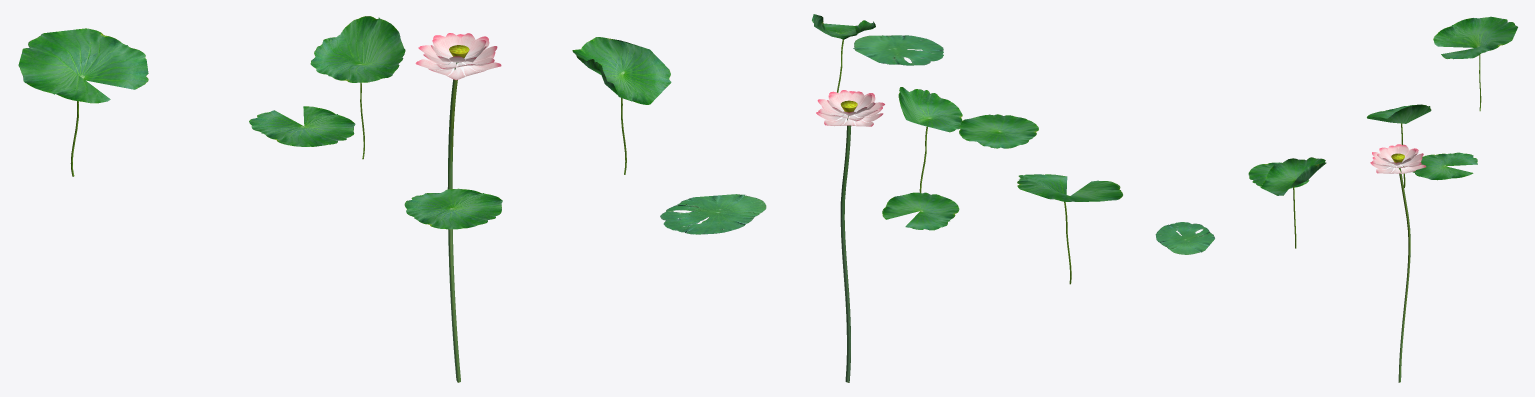
Rendered from lotushes.FBX.
3 renders of one model, left to right at view 1: azimuth 30°, elevation 25°; view 2: azimuth 150°, elevation 25°; view 3: azimuth 270°, elevation 25°, orthographic. The views are drawn at different scales.
Parts seen in each view (by area): view 1: leaf047, Object003, Object002, Cylinder003, Object004, Object006, Object005; view 2: Cylinder003, Object004, leaf047, Object006, Object003, Object005, Object002; view 3: leaf047, Cylinder003, Object002, Object004, Object005, Object003, Object006.
Part boxes in pixels (left/top/right/bottom): leaf047: left=18, top=28, right=148, bottom=176; Object003: left=310, top=16, right=405, bottom=159; Object002: left=572, top=37, right=671, bottom=174; Cylinder003: left=415, top=33, right=501, bottom=382; Object004: left=660, top=194, right=766, bottom=234; Object006: left=404, top=188, right=502, bottom=229; Object005: left=249, top=106, right=355, bottom=146; Cylinder003: left=816, top=90, right=884, bottom=382; Object004: left=853, top=35, right=943, bottom=65; leaf047: left=1017, top=174, right=1122, bottom=284; Object006: left=959, top=114, right=1038, bottom=148; Object003: left=898, top=87, right=962, bottom=192; Object005: left=882, top=192, right=959, bottom=230; Object002: left=812, top=14, right=875, bottom=92; leaf047: left=1433, top=16, right=1517, bottom=111; Cylinder003: left=1370, top=144, right=1426, bottom=382; Object002: left=1260, top=157, right=1326, bottom=248; Object004: left=1155, top=222, right=1214, bottom=254; Object005: left=1412, top=152, right=1477, bottom=180; Object003: left=1367, top=104, right=1431, bottom=187; Object006: left=1248, top=162, right=1309, bottom=188.
Bounding box in the file's own units: 1223 × 822 × 1067.
